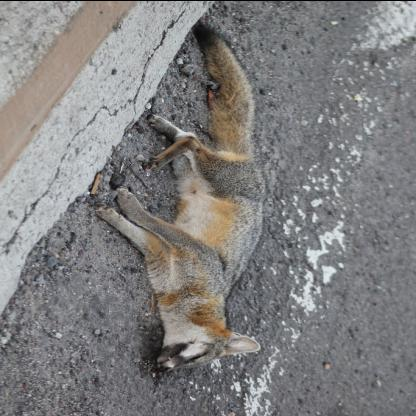zorro: (96, 11, 284, 381)
